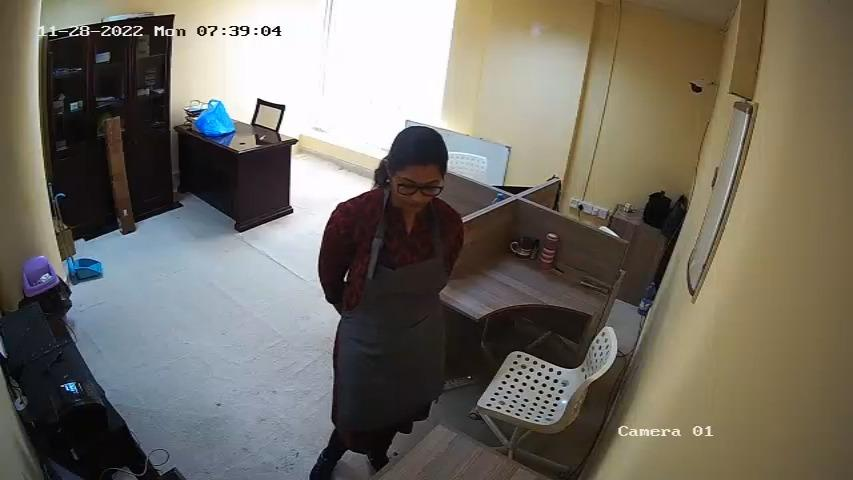apron: (335, 215, 446, 403)
